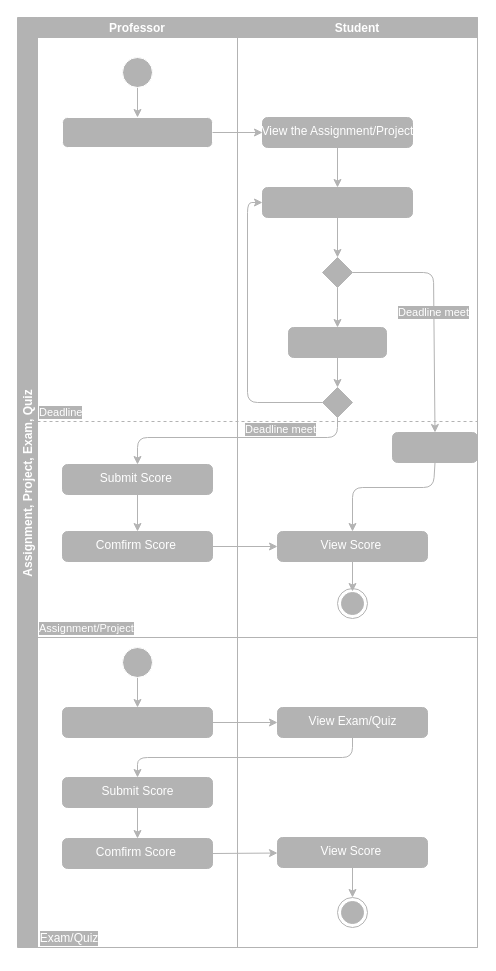
Image size: 496x971. Some labels were removed from this diagram. Here are the shapes that lost their labels. From the top down, the centre of each, then its label:
At (137,132): "Publish Assignment/Project".
At (337,202): "Submit Assignment/Project".
At (337,342): "Submit Success".
At (435,447): "Submit Failed".
At (137,722): "Publish Exam/Quiz".
